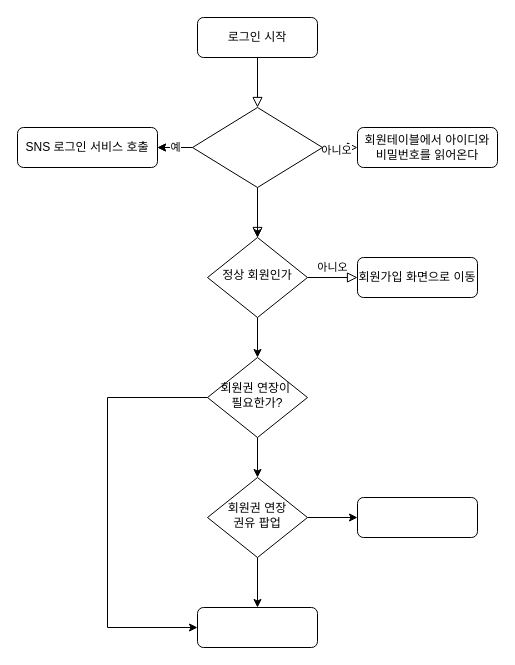
The diagram is 515 pixels wide and 665 high, and some of its shapes have lost their labels. The shapes that lost their labels are listed below. From the top down, each one's centre as x and y in pixels, then its label:
(x=257, y=147): sns 연동 로그인인가
(x=417, y=517): 회원권 관리 화면 이동
(x=257, y=627): 로그인 종료
